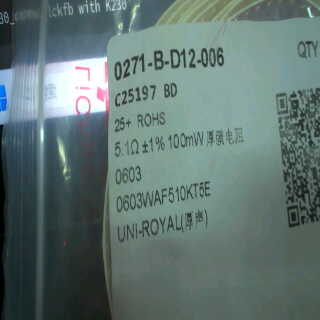5.1R: (112, 135, 141, 161)
